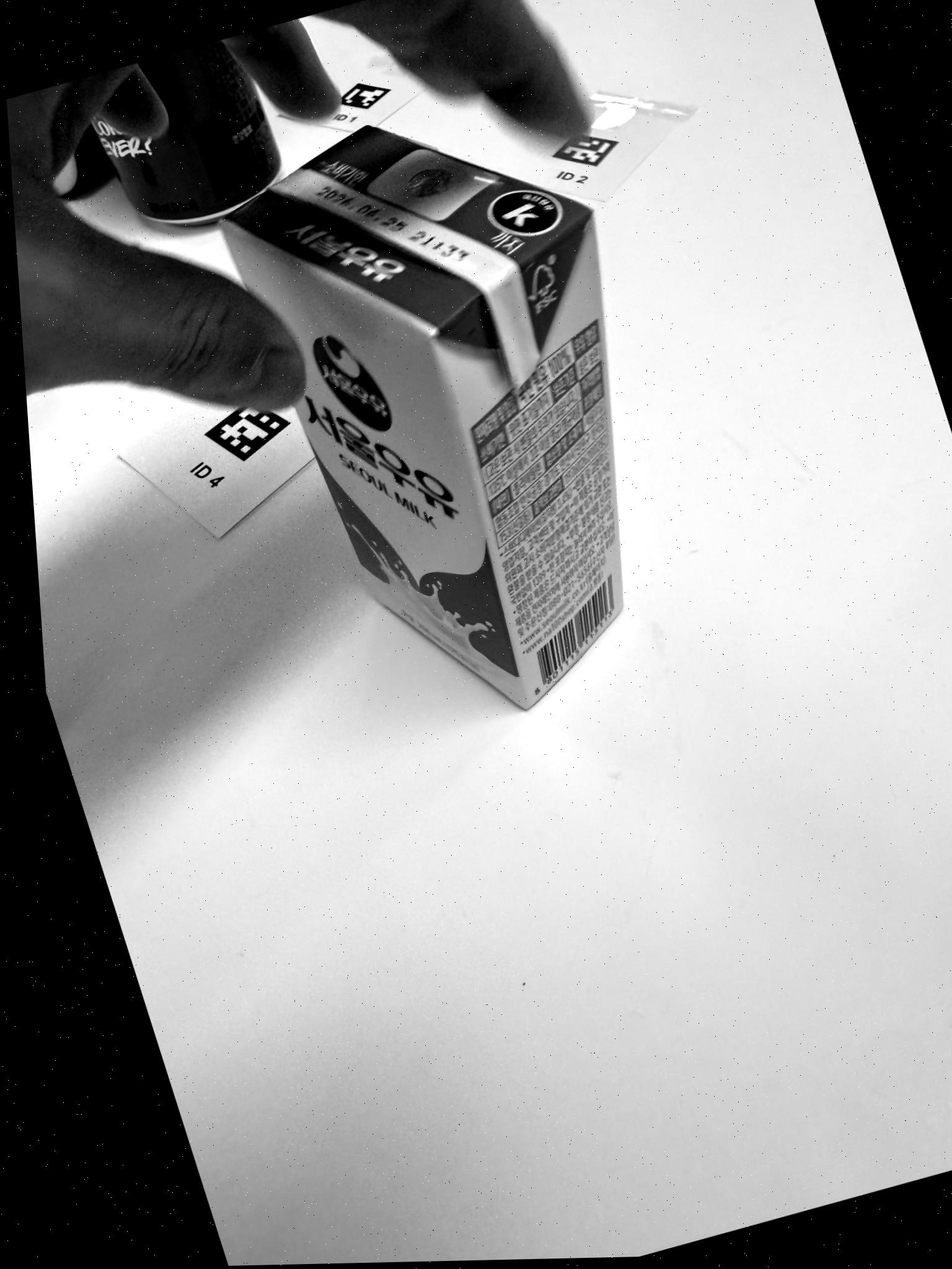milk_green: (222, 127, 623, 708)
